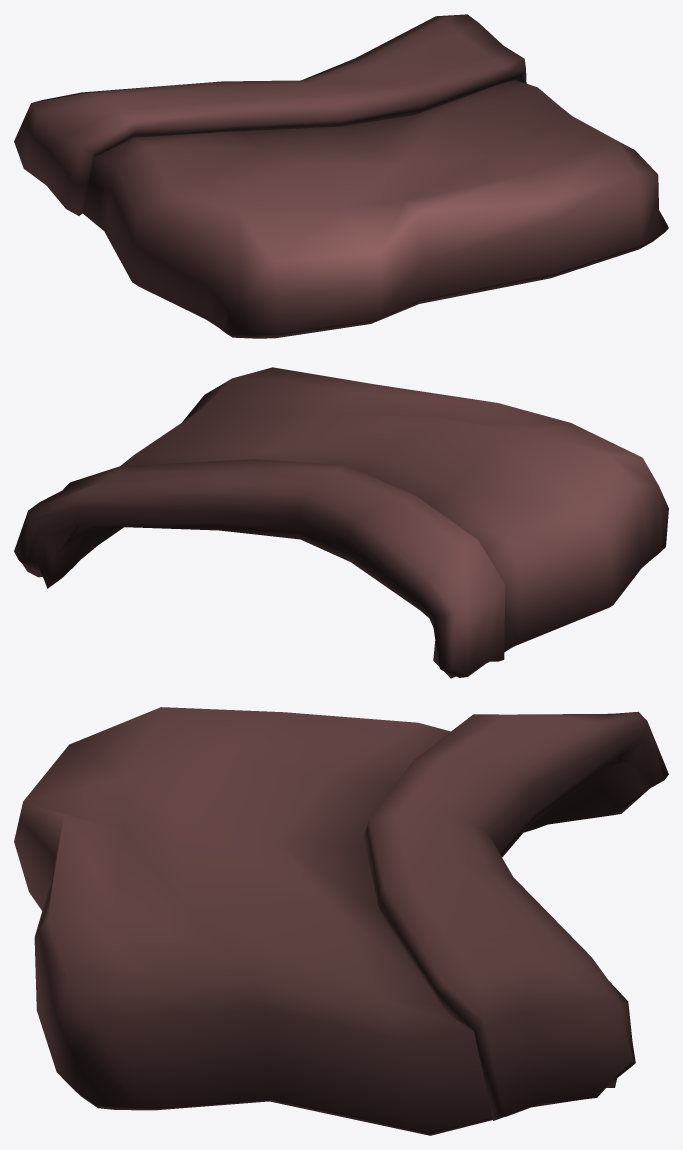
3 renders of one model, top to bottom at view 1: azimuth 30°, elevation 25°; view 2: azimuth 150°, elevation 25°; view 3: azimuth 270°, elevation 25°, orthographic. The views are drawn at different scales.
Visible parts, largest first — view 1: color.004; view 2: color.004; view 3: color.004.
Part boxes in pixels (<box>): color.004: <box>14,14,668,338</box>; color.004: <box>14,367,668,678</box>; color.004: <box>14,707,668,1135</box>.
Size of the model in its own units: 0.5 by 0.1299 by 0.4488.
